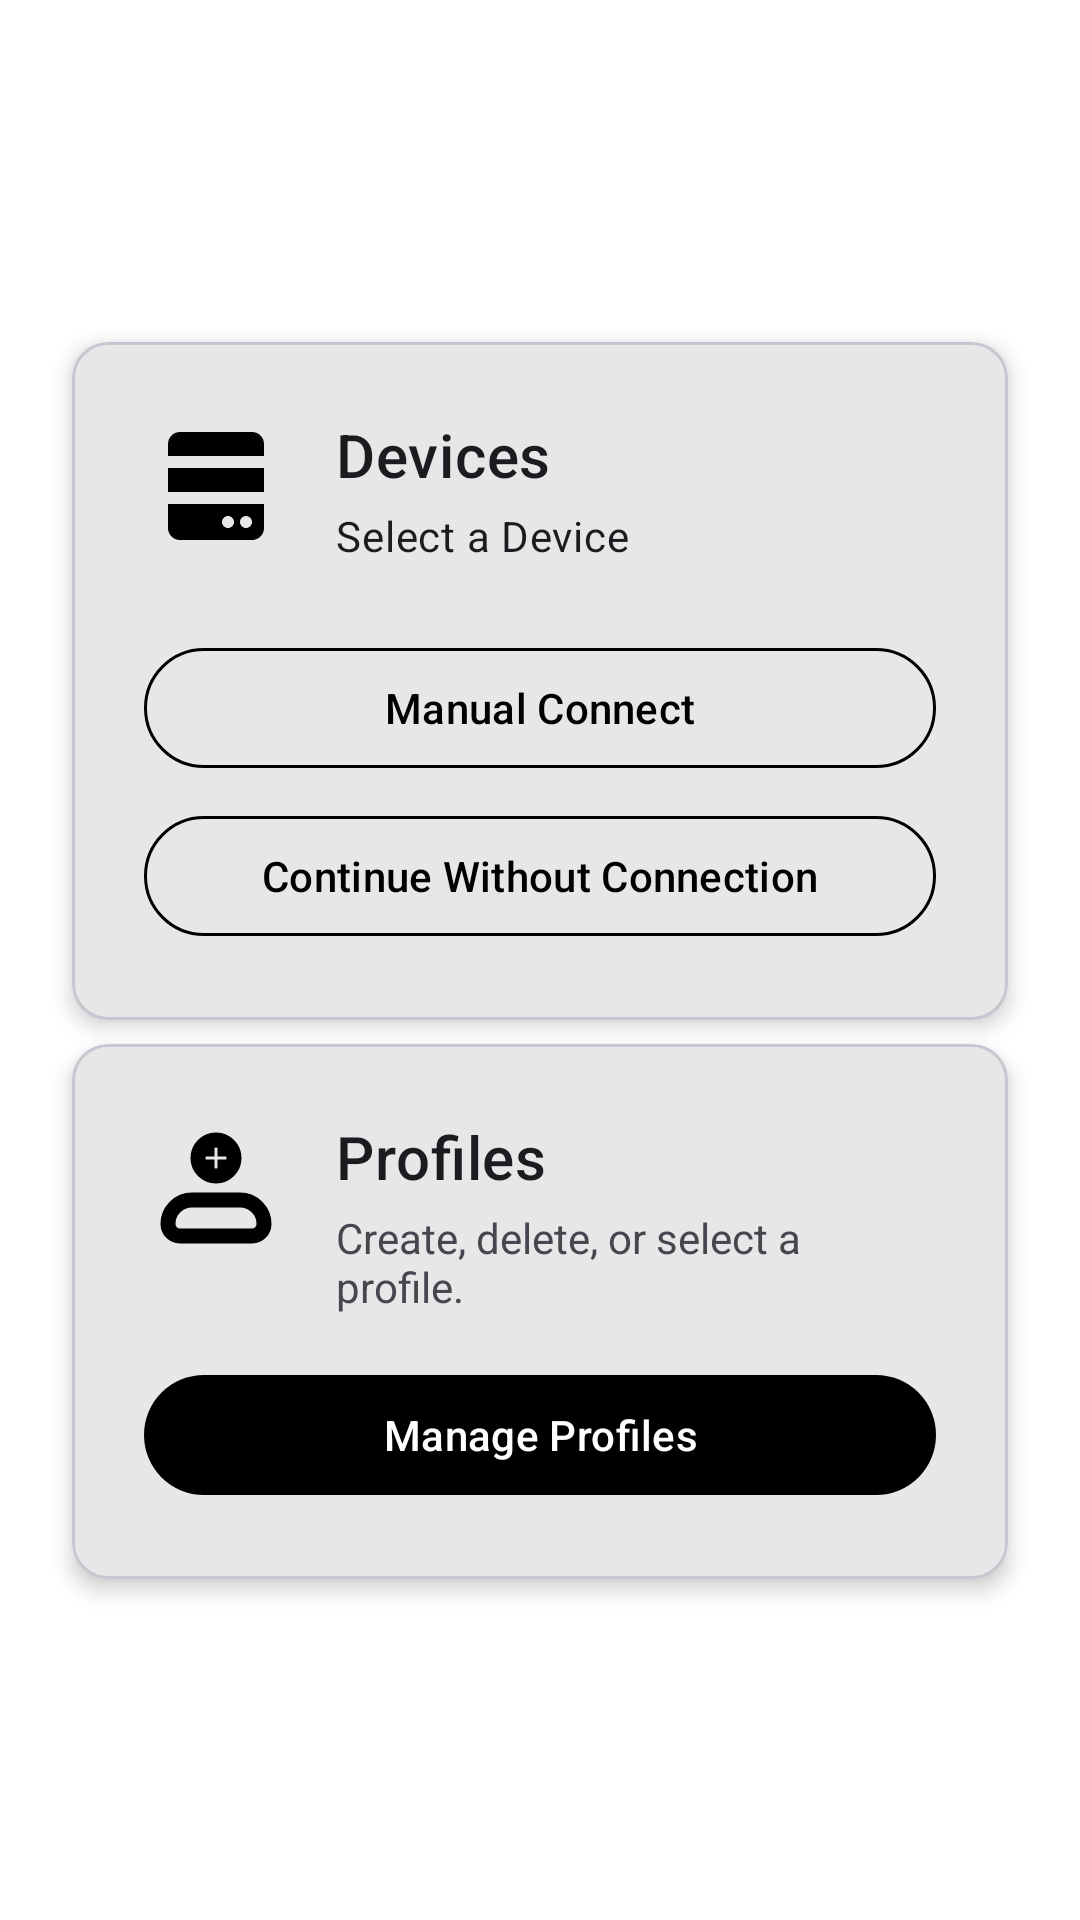

Named icons in this screenshot (1080×1920) and their centers, (x=x, y=y):
add to profile: (x=216, y=1188)
hosts: (x=216, y=486)
